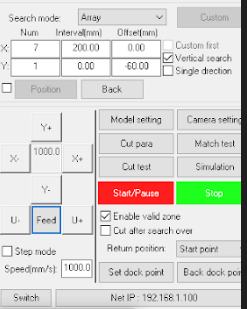start: (99, 180, 174, 205)
timer: (111, 27, 161, 79)
